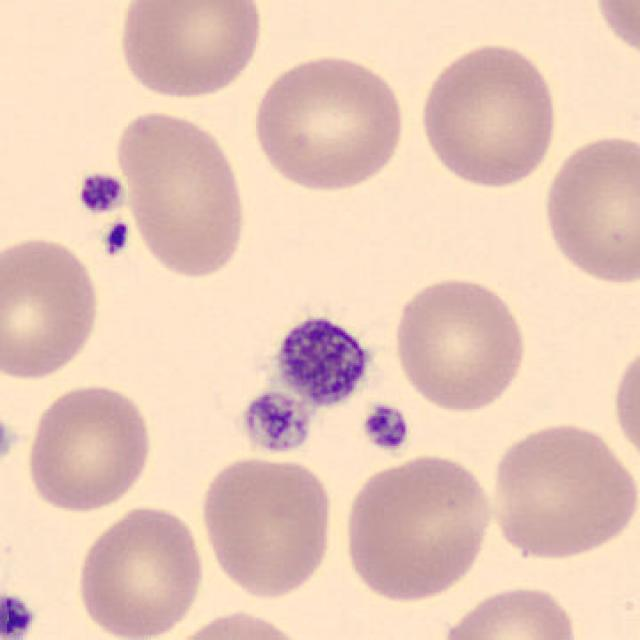Platelets: (265, 310, 375, 411), (238, 390, 315, 455), (359, 402, 413, 455), (73, 169, 128, 217), (0, 590, 37, 640), (100, 219, 134, 261), (0, 414, 16, 469)
RBC: (112, 106, 252, 282), (340, 451, 498, 605), (247, 49, 409, 194), (414, 39, 562, 192), (484, 418, 636, 562), (195, 452, 338, 602), (389, 272, 532, 416), (73, 500, 208, 640), (22, 379, 156, 515), (0, 231, 105, 384), (539, 129, 638, 289), (113, 0, 266, 102), (437, 582, 583, 640), (160, 606, 313, 640), (608, 337, 640, 472), (588, 0, 638, 65)
